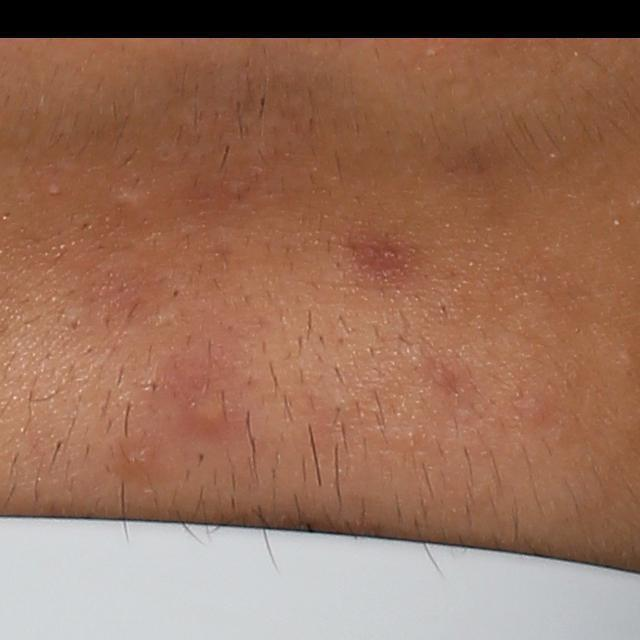comedo: (169, 285, 182, 299)
hypertrophic_scar: (113, 185, 165, 215)
pustule: (166, 381, 237, 438)
